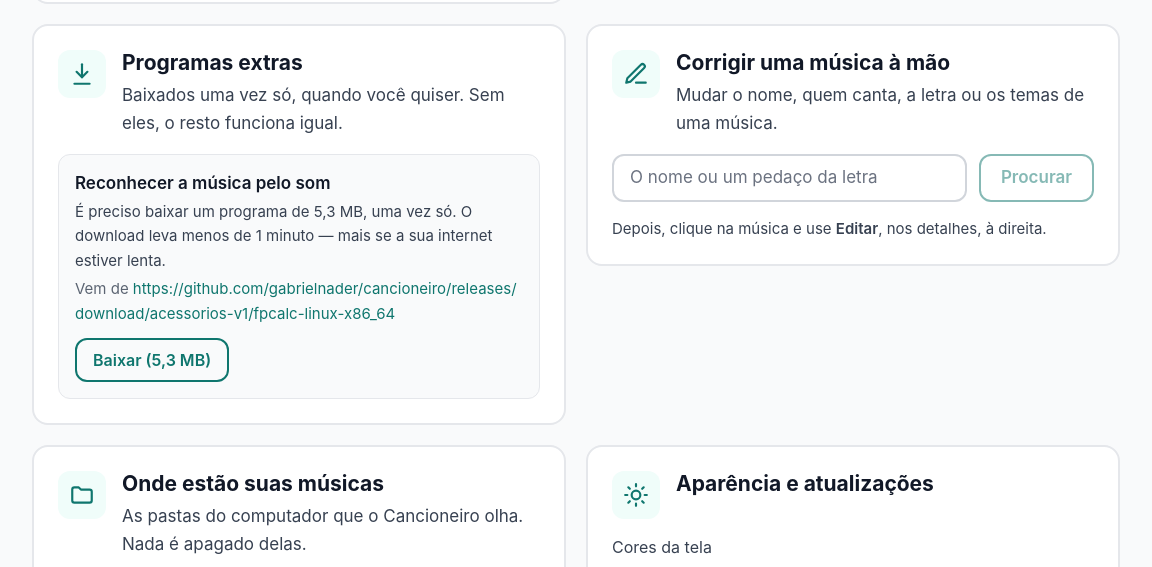
Scenario: SettingsView — acessório do reconhecimento pelo som (V9) › parar cancela de verdade e o desfecho é dito como cancelamento
(page scrolled)
Click the button "Baixar (5,3 MB)".
click(152, 360)  # box [75,338,229,382]
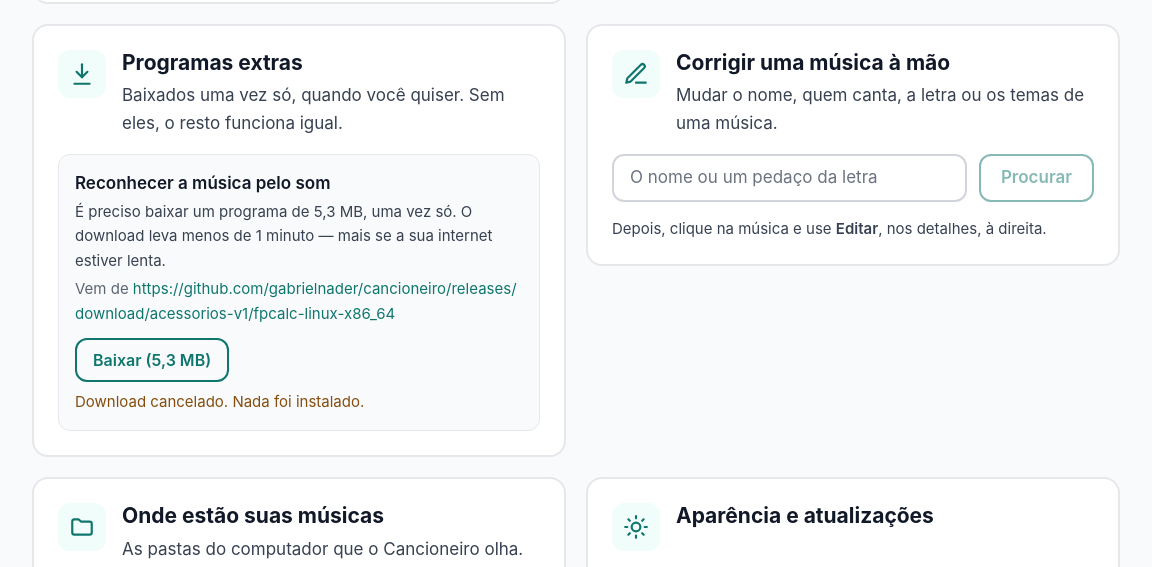
expect the text "Download cancelado. Nada foi instalado." is shown: met, box [75,392,364,411]
